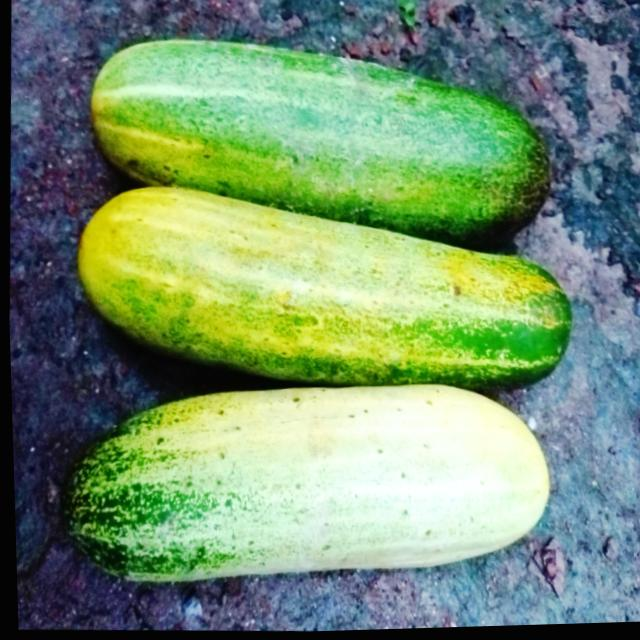Fresh-Cucumber: (67, 170, 580, 412), (49, 365, 554, 601), (82, 20, 559, 257)
